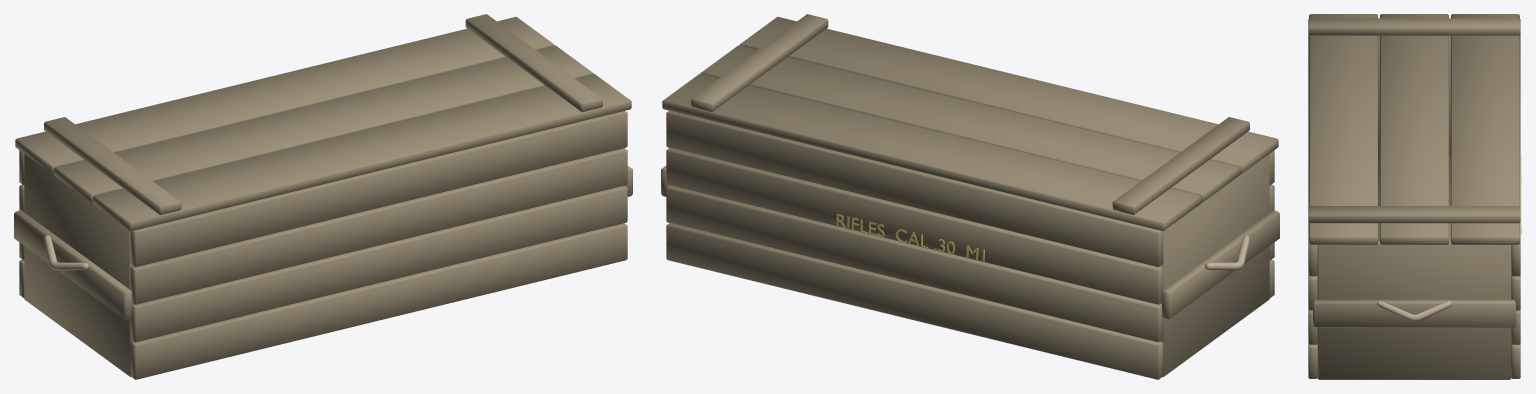
Rendered from weapon_crate.glb.
3 views of the same model, side by side, from view 1: azimuth 30°, elevation 25°; view 2: azimuth 150°, elevation 25°; view 3: azimuth 270°, elevation 25° (orthographic). The views are drawn at different scales.
Parts seen in each view (by area): view 1: weapon_crate; view 2: weapon_crate; view 3: weapon_crate.
Boxes of the visible parts, x1,y1,x2,y2 form: weapon_crate: (14,14,632,379); weapon_crate: (661,14,1279,379); weapon_crate: (1308,14,1521,379).
Bounding box in the file's own units: 1.21 × 0.36 × 0.4521.
